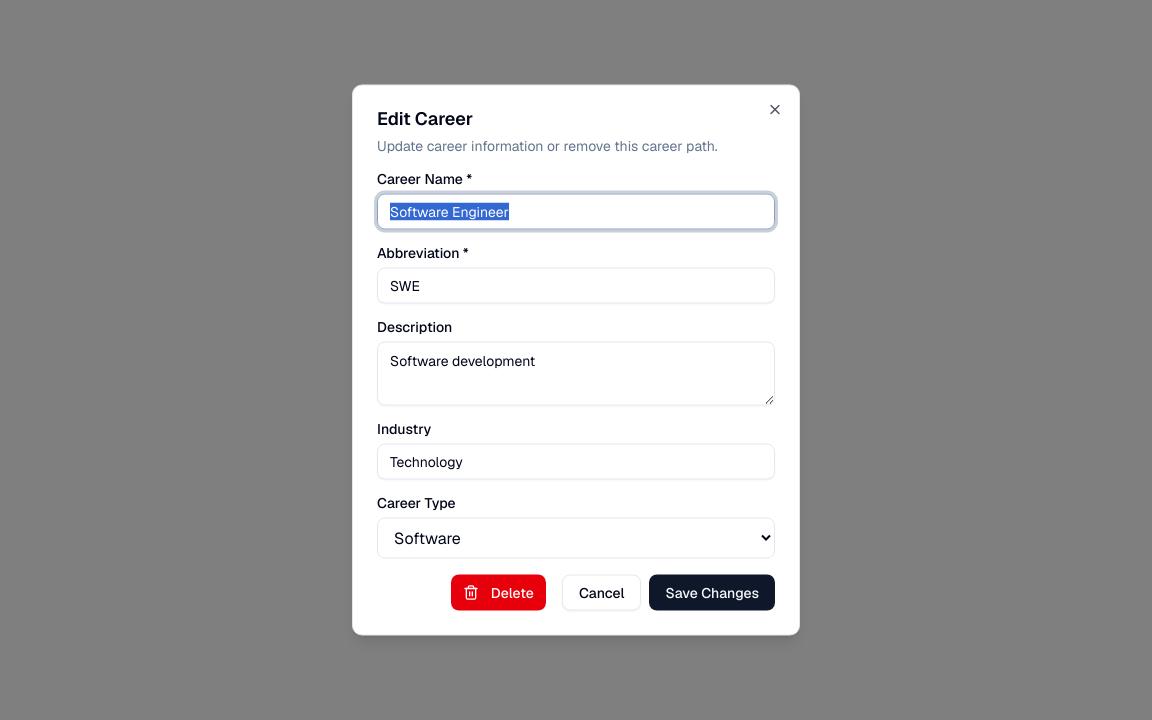
Scenario: CareerEditPopup › shows delete confirmation when delete button is clicked
What coordinates should you click on to do the following:
click the button "Delete"
I would click on:
 (498, 592)
Its box is [451, 574, 546, 610].
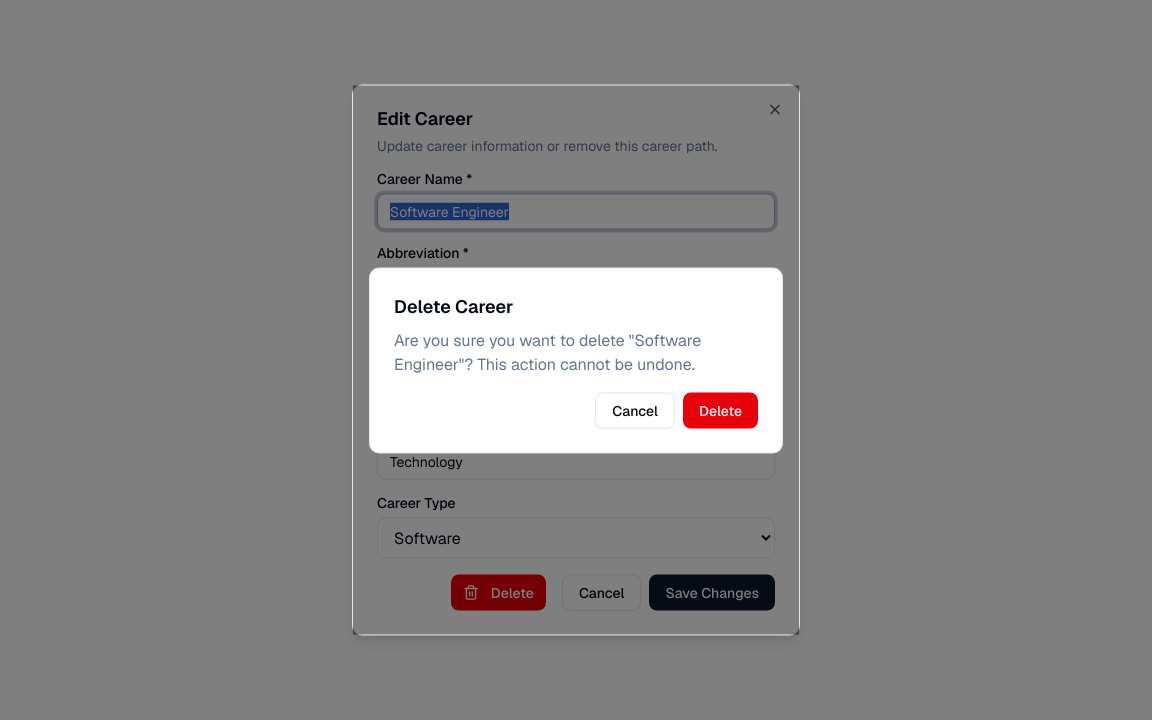
Check: the heading "Delete Career" is shown, box [394, 294, 513, 317]
Check: the text "Are you sure you want to delete \"Software Engineer\"? This action cannot be undone." is shown, box [394, 329, 701, 374]
